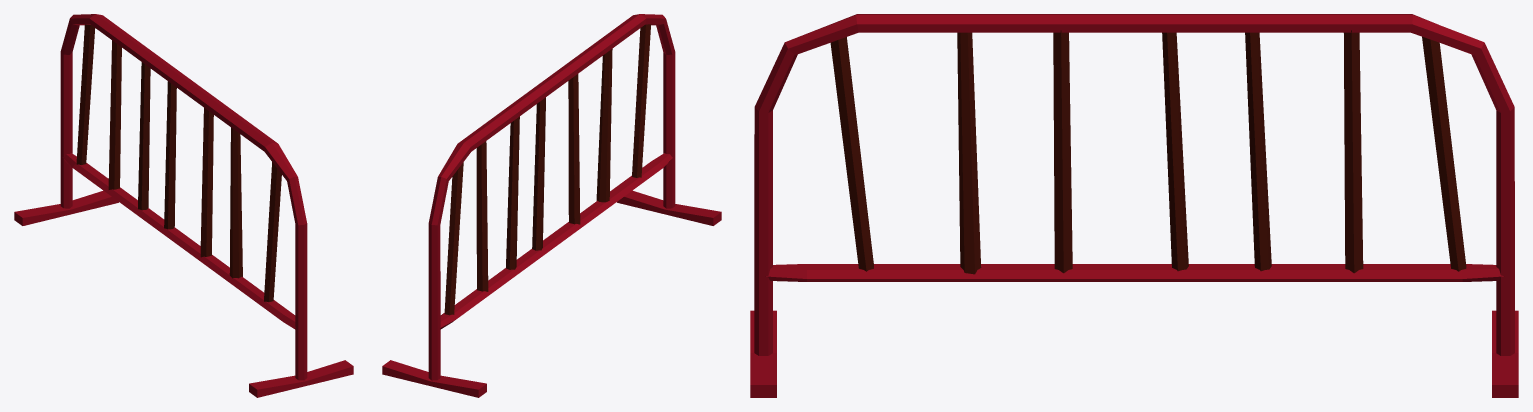
File: barriere_police_longue.glb
3 views of the same model, side by side, from view 1: azimuth 30°, elevation 25°; view 2: azimuth 150°, elevation 25°; view 3: azimuth 270°, elevation 25° (orthographic). The views are drawn at different scales.
Visible parts, largest first — view 1: Road Closed-02_8; view 2: Road Closed-02_8; view 3: Road Closed-02_8.
Part boxes in pixels (left/top/right/bottom): Road Closed-02_8: left=14, top=14, right=353, bottom=397; Road Closed-02_8: left=382, top=14, right=721, bottom=397; Road Closed-02_8: left=750, top=14, right=1518, bottom=397.
Size of the model in its own units: 0.5819 by 1.26 by 2.54.
Materials: 1 (1 with a texture image).
